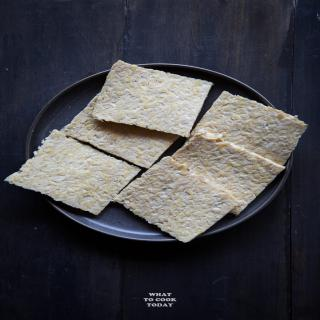Tempe: (5, 130, 143, 217), (92, 60, 215, 139), (60, 93, 182, 170)
